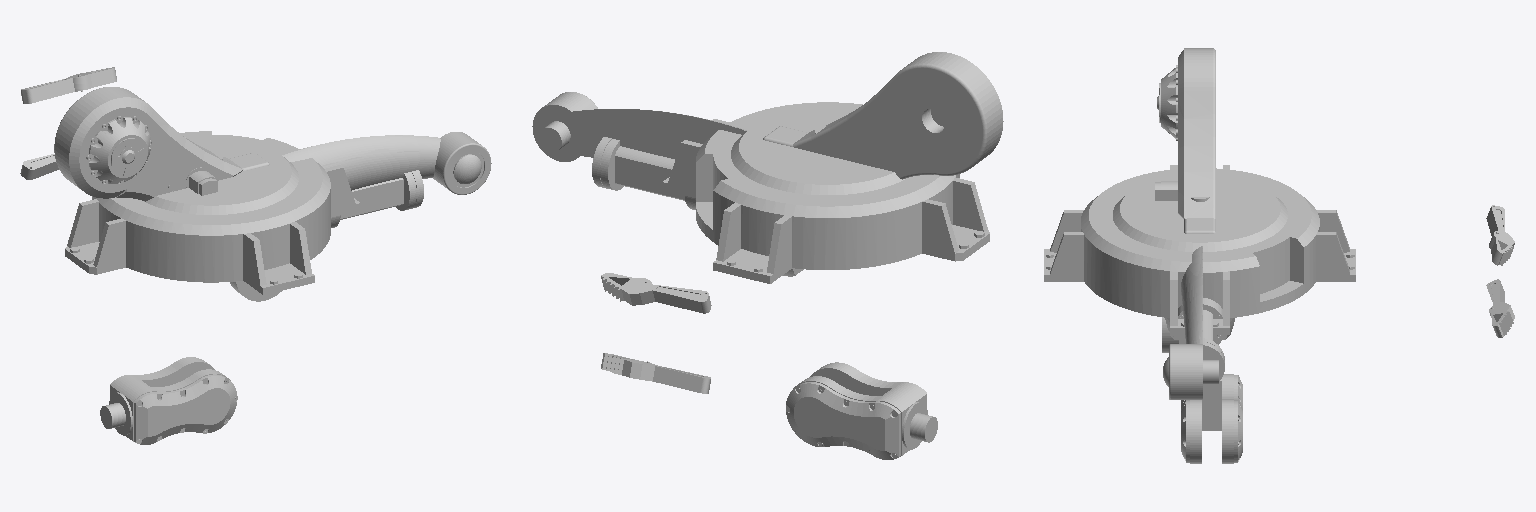
URDF robot description ([local-path] M\Builds\arm):
<?xml version="1.0" ?>
<!-- Generated using onshape-to-robot -->
<!-- Onshape document_id: a4ce88466a703825a561c2b2 / workspace_id: ce48144295f38f35d04a1e22 -->
<robot name="C:\Users\Deepankuran M\Builds\arm">
  <mujoco>
    <compiler meshdir="assets"/>
  </mujoco>
  <!-- Base link -->
  <link name="base_link">
    <visual>
      <origin xyz="0 0 0" rpy="0 0 0"/>
      <geometry><mesh filename="base_link.stl"/></geometry>
      <material name="base_material"><color rgba="0.8 0.8 0.8 1"/></material>
    </visual>
    <collision>
      <origin xyz="0 0 0" rpy="0 0 0"/>
      <geometry><mesh filename="base_link.stl"/></geometry>
    </collision>
    <inertial>
      <mass value="1.0"/>
      <inertia ixx="0.01" ixy="0" ixz="0" iyy="0.01" iyz="0" izz="0.01"/>
    </inertial>
  </link>

  <!-- Link left -->
  <link name="left">
    <visual>
      <origin xyz="0 0 0" rpy="0 0 0"/>
      <geometry><mesh filename="left.stl"/></geometry>
      <material name="left_material"><color rgba="0.8 0.8 0.8 1"/></material>
    </visual>
    <collision>
      <origin xyz="0 0 0" rpy="0 0 0"/>
      <geometry><mesh filename="left.stl"/></geometry>
    </collision>
    <inertial>
      <mass value="0.3"/>
      <inertia ixx="0.001" ixy="0" ixz="0" iyy="0.001" iyz="0" izz="0.001"/>
    </inertial>
  </link>

  <!-- Link right -->
  <link name="right">
    <visual>
      <origin xyz="0 0 0" rpy="0 0 0"/>
      <geometry><mesh filename="right.stl"/></geometry>
      <material name="right_material"><color rgba="0.8 0.8 0.8 1"/></material>
    </visual>
    <collision>
      <origin xyz="0 0 0" rpy="0 0 0"/>
      <geometry><mesh filename="right.stl"/></geometry>
    </collision>
    <inertial>
      <mass value="0.3"/>
      <inertia ixx="0.001" ixy="0" ixz="0" iyy="0.001" iyz="0" izz="0.001"/>
    </inertial>
  </link>

  <!-- Jaw links -->
  <link name="jaw1">
    <visual><origin xyz="0 0 0" rpy="0 0 0"/><geometry><mesh filename="jaw1.stl"/></geometry><material name="jaw1_mat"><color rgba="0.8 0.8 0.8 1"/></material></visual>
    <collision><origin xyz="0 0 0" rpy="0 0 0"/><geometry><mesh filename="jaw1.stl"/></geometry></collision>
    <inertial><mass value="0.1"/><inertia ixx="0.001" ixy="0" ixz="0" iyy="0.001" iyz="0" izz="0.001"/></inertial>
  </link>
  <link name="jaw2">
    <visual><origin xyz="0 0 0" rpy="0 0 0"/><geometry><mesh filename="jaw2.stl"/></geometry><material name="jaw2_mat"><color rgba="0.8 0.8 0.8 1"/></material></visual>
    <collision><origin xyz="0 0 0" rpy="0 0 0"/><geometry><mesh filename="jaw2.stl"/></geometry></collision>
    <inertial><mass value="0.1"/><inertia ixx="0.001" ixy="0" ixz="0" iyy="0.001" iyz="0" izz="0.001"/></inertial>
  </link>
  <link name="jaw3">
    <visual><origin xyz="0 0 0" rpy="0 0 0"/><geometry><mesh filename="jaw3.stl"/></geometry><material name="jaw3_mat"><color rgba="0.8 0.8 0.8 1"/></material></visual>
    <collision><origin xyz="0 0 0" rpy="0 0 0"/><geometry><mesh filename="jaw3.stl"/></geometry></collision>
    <inertial><mass value="0.1"/><inertia ixx="0.001" ixy="0" ixz="0" iyy="0.001" iyz="0" izz="0.001"/></inertial>
  </link>
  <link name="jaw4">
    <visual><origin xyz="0 0 0" rpy="0 0 0"/><geometry><mesh filename="jaw4.stl"/></geometry><material name="jaw4_mat"><color rgba="0.8 0.8 0.8 1"/></material></visual>
    <collision><origin xyz="0 0 0" rpy="0 0 0"/><geometry><mesh filename="jaw4.stl"/></geometry></collision>
    <inertial><mass value="0.1"/><inertia ixx="0.001" ixy="0" ixz="0" iyy="0.001" iyz="0" izz="0.001"/></inertial>
  </link>
  <link name="jaw5">
    <visual><origin xyz="0 0 0" rpy="0 0 0"/><geometry><mesh filename="jaw5.stl"/></geometry><material name="jaw5_mat"><color rgba="0.8 0.8 0.8 1"/></material></visual>
    <collision><origin xyz="0 0 0" rpy="0 0 0"/><geometry><mesh filename="jaw5.stl"/></geometry></collision>
    <inertial><mass value="0.1"/><inertia ixx="0.001" ixy="0" ixz="0" iyy="0.001" iyz="0" izz="0.001"/></inertial>
  </link>
  <link name="jaw6">
    <visual><origin xyz="0 0 0" rpy="0 0 0"/><geometry><mesh filename="jaw6.stl"/></geometry><material name="jaw6_mat"><color rgba="0.8 0.8 0.8 1"/></material></visual>
    <collision><origin xyz="0 0 0" rpy="0 0 0"/><geometry><mesh filename="jaw6.stl"/></geometry></collision>
    <inertial><mass value="0.1"/><inertia ixx="0.001" ixy="0" ixz="0" iyy="0.001" iyz="0" izz="0.001"/></inertial>
  </link>

  <!-- Joints connecting links -->
  <joint name="base_to_left" type="fixed">
    <parent link="base_link"/>
    <child link="left"/>
    <origin xyz="0 0 0" rpy="0 0 0"/>
  </joint>
  <joint name="base_to_right" type="fixed">
    <parent link="base_link"/>
    <child link="right"/>
    <origin xyz="0 0 0" rpy="0 0 0"/>
  </joint>
  <joint name="base_to_jaw1" type="fixed">
    <parent link="base_link"/>
    <child link="jaw1"/>
    <origin xyz="0 0 0" rpy="0 0 0"/>
  </joint>
  <joint name="jaw1_to_jaw2" type="revolute">
    <parent link="jaw1"/>
    <child link="jaw2"/>
    <origin xyz="0 0 0" rpy="0 0 0"/>
    <axis xyz="0 1 0"/>
    <limit lower="-1.57" upper="1.57" effort="10" velocity="1.0"/>
    <dynamics damping="1.0" friction="0.1"/>
  </joint>
  <joint name="jaw2_to_jaw3" type="fixed">
    <parent link="jaw2"/>
    <child link="jaw3"/>
    <origin xyz="0 0 0" rpy="0 0 0"/>
  </joint>
  <joint name="jaw3_to_jaw4" type="fixed">
    <parent link="jaw3"/>
    <child link="jaw4"/>
    <origin xyz="0 0 0" rpy="0 0 0"/>
  </joint>
  <joint name="jaw4_to_jaw5" type="fixed">
    <parent link="jaw4"/>
    <child link="jaw5"/>
    <origin xyz="0 0 0" rpy="0 0 0"/>
  </joint>
  <joint name="jaw5_to_jaw6" type="fixed">
    <parent link="jaw5"/>
    <child link="jaw6"/>
    <origin xyz="0 0 0" rpy="0 0 0"/>
  </joint>

  <!-- Actuator for testing -->
  <transmission name="jaw1_jaw2_trans">
    <type>transmission_interface/SimpleTransmission</type>
    <joint name="jaw1_to_jaw2">
      <hardwareInterface>hardware_interface/EffortJointInterface</hardwareInterface>
    </joint>
    <actuator name="jaw1_jaw2_motor">
      <mechanicalReduction>1</mechanicalReduction>
    </actuator>
  </transmission>
</robot>

--- What the picture shows (computed from the rendered views, not written in the file) ---
3 views of the same robot in one strip: view 1: azimuth 30°, elevation 25°; view 2: azimuth 150°, elevation 25°; view 3: azimuth 270°, elevation 25° (orthographic).
Robot: [local-path] M\Builds\arm — 9 links, 8 joints (1 revolute, 7 fixed); root link base_link; default pose: every joint at zero.
Visible links, largest first — view 1: base_link, jaw1, jaw4, jaw2, jaw3, right, left; view 2: base_link, jaw1, jaw4, jaw2, jaw3, right, left; view 3: base_link, jaw1, jaw2, jaw4, jaw3, right, left.
Boxes of the visible links, x1,y1,x2,y2 form: base_link: [65, 131, 360, 294]; jaw1: [54, 87, 269, 201]; jaw4: [100, 357, 237, 444]; jaw2: [282, 132, 491, 194]; jaw3: [230, 170, 423, 301]; right: [21, 67, 116, 103]; left: [20, 154, 58, 179]; base_link: [662, 102, 989, 283]; jaw1: [763, 52, 1003, 179]; jaw4: [786, 362, 937, 459]; jaw2: [532, 92, 746, 161]; jaw3: [592, 137, 803, 276]; right: [601, 273, 711, 313]; left: [601, 353, 710, 393]; base_link: [1044, 165, 1355, 334]; jaw1: [1155, 48, 1215, 233]; jaw2: [1163, 246, 1218, 399]; jaw4: [1181, 374, 1242, 463]; jaw3: [1162, 298, 1234, 389]; right: [1486, 205, 1514, 265]; left: [1486, 279, 1514, 337].
Size in the robot's own frame: 0.6035 by 0.5904 by 0.4981 metres.
9 mesh visuals loaded from 9 distinct referenced files (9 binary STL).
